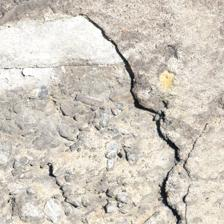Crack: (85, 19, 166, 122), (152, 121, 195, 222)
